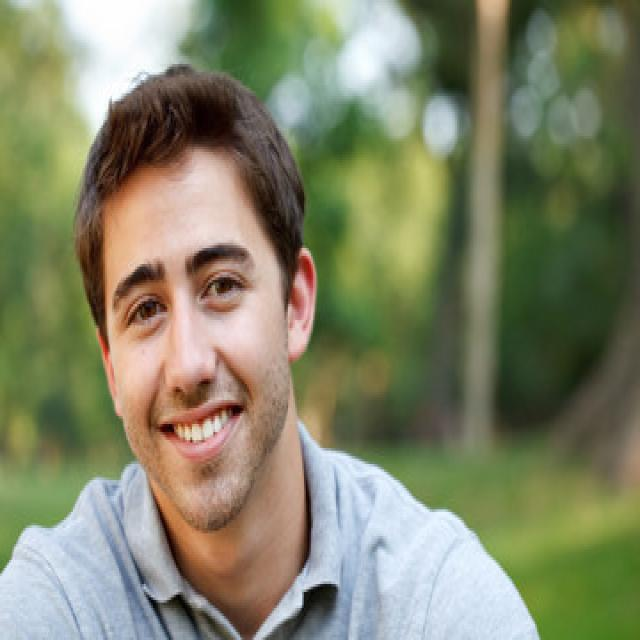Nonhelmet: (66, 56, 325, 533)
